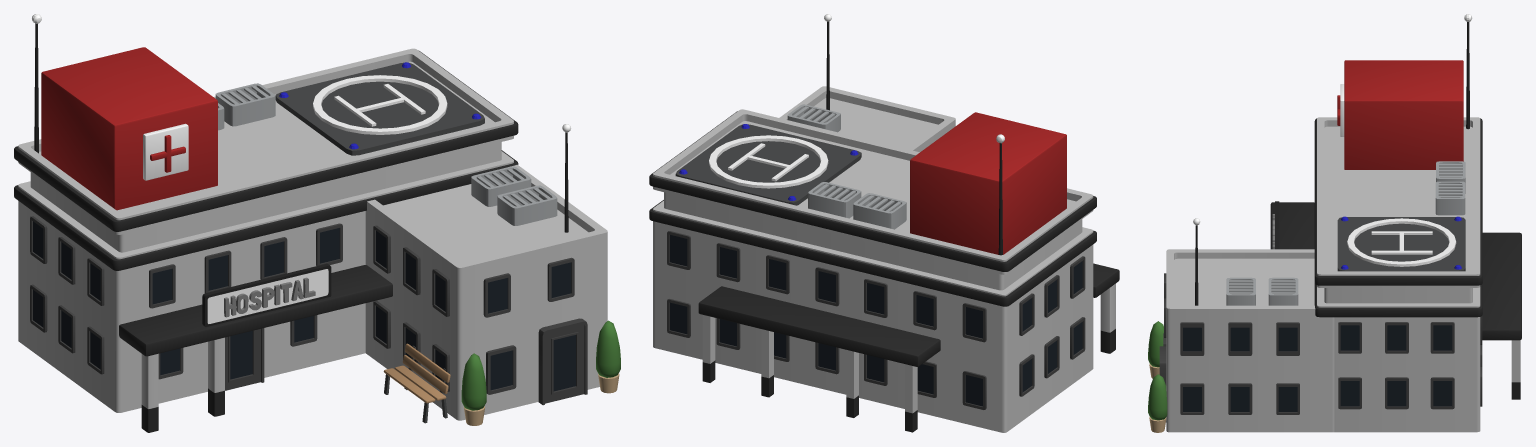
File: SM_hospital.fbx
3 views of the same model, side by side, from view 1: azimuth 30°, elevation 25°; view 2: azimuth 150°, elevation 25°; view 3: azimuth 270°, elevation 25° (orthographic). The views are drawn at different scales.
Parts seen in each view (by area): view 1: Box290; view 2: Box290; view 3: Box290.
Boxes of the visible parts, x1=… form: Box290: x1=14, y1=14, x2=620, y2=432; Box290: x1=649, y1=14, x2=1119, y2=432; Box290: x1=1148, y1=14, x2=1521, y2=432.
Bounding box in the file's own units: 457 × 352 × 449.
